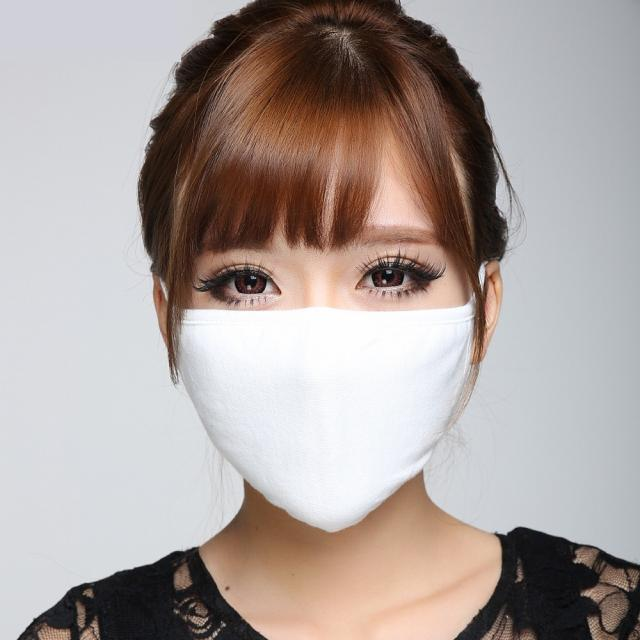mask: (182, 114, 467, 530)
